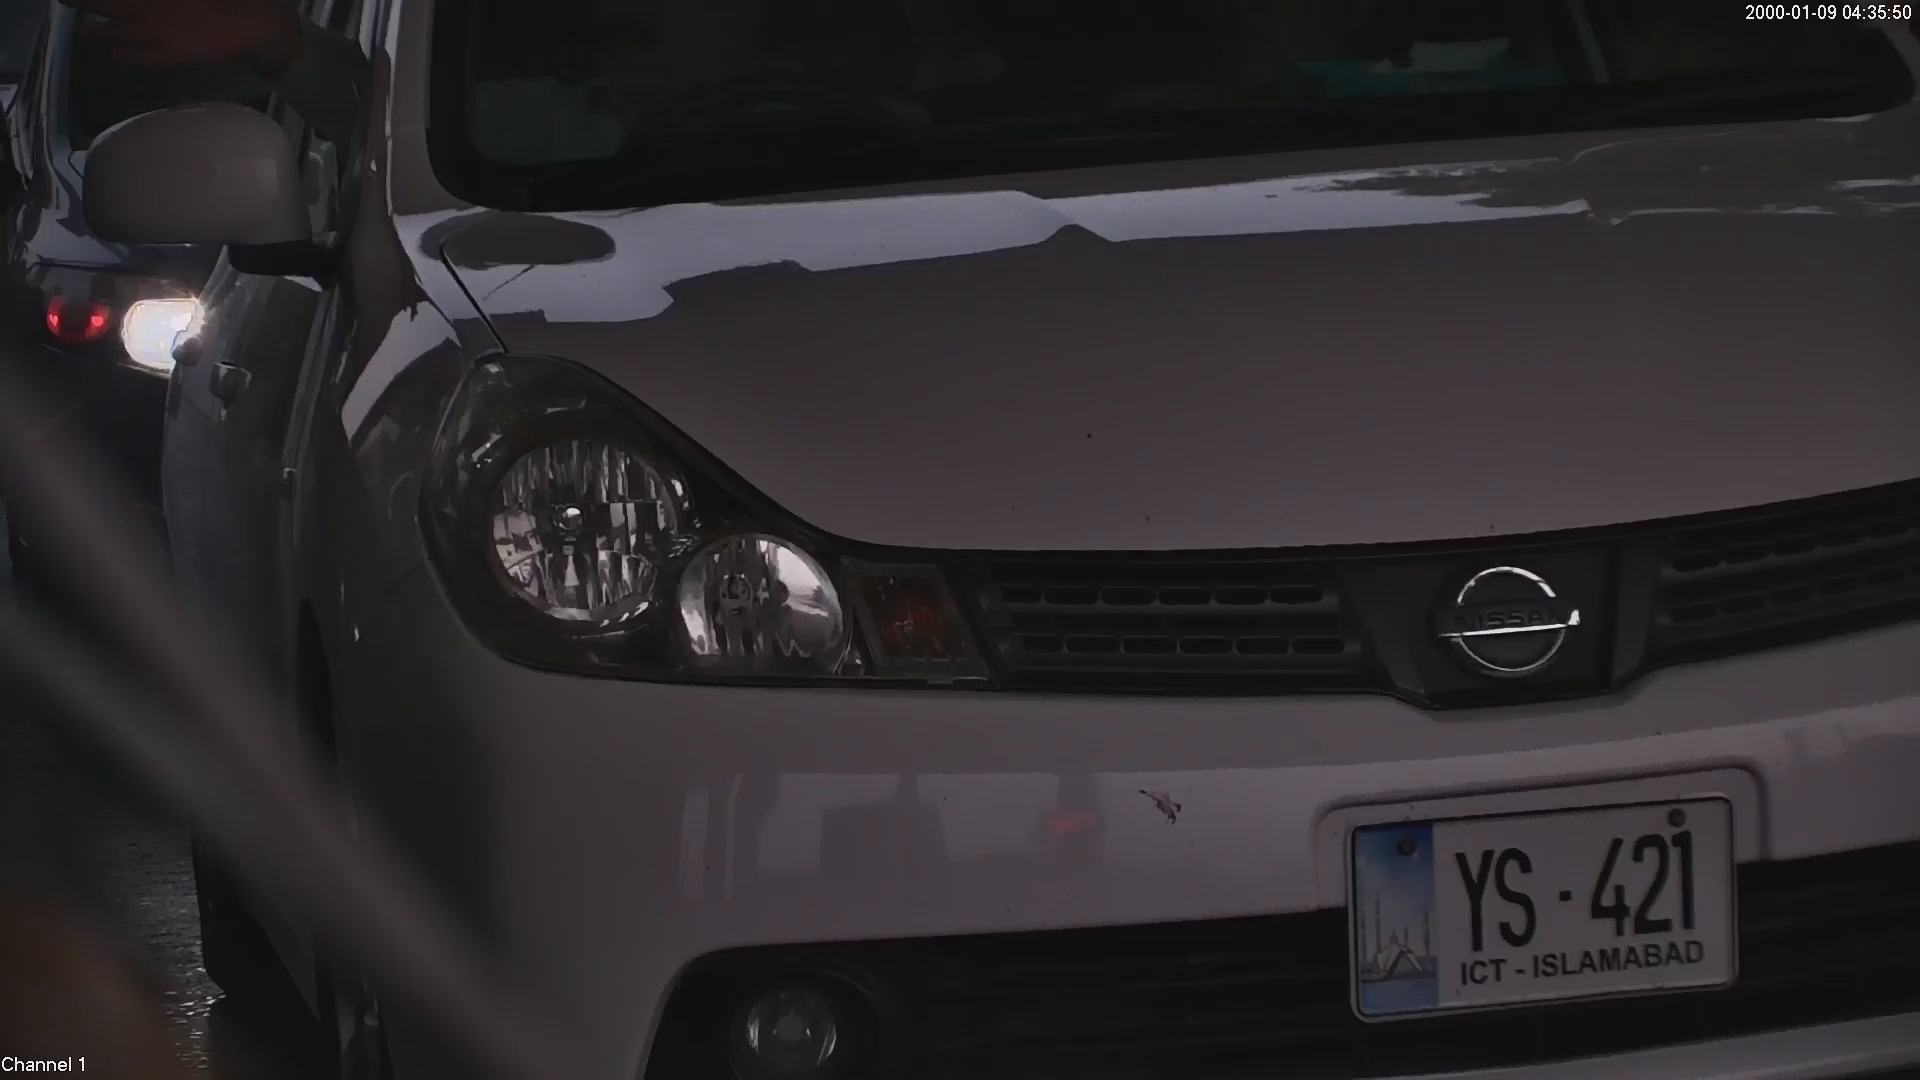Number_Plate: (1326, 783, 1752, 1014)
Undefined: (465, 446, 880, 694), (1410, 542, 1587, 677)
